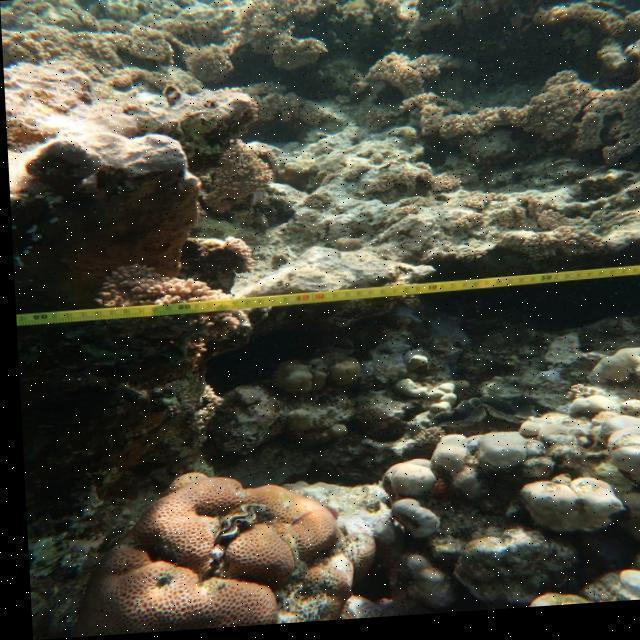Healthy Coral: (93, 455, 348, 636)
